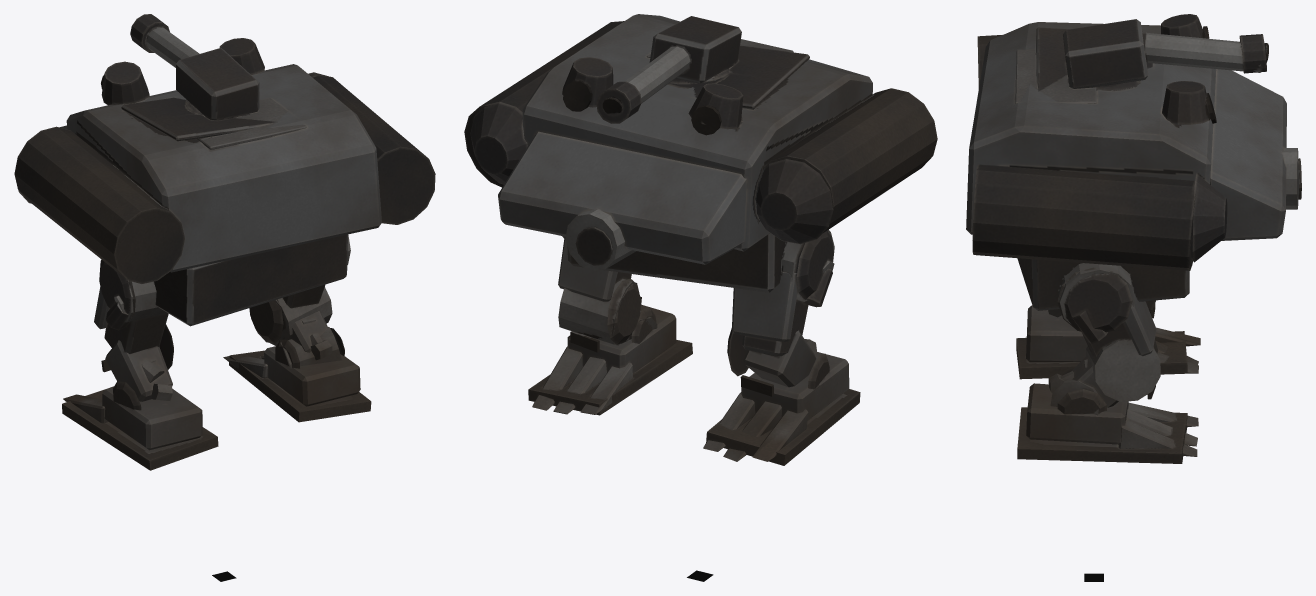
Rendered from chs_newt_wreck.fbx.
3 renders of one model, left to right at view 1: azimuth 30°, elevation 25°; view 2: azimuth 150°, elevation 25°; view 3: azimuth 270°, elevation 25°, orthographic. The views are drawn at different scales.
Parts seen in each view (by area): view 1: torso_bar, base_bar, footL_bar, footR_bar, thighL_bar, shinL_bar, thighR_bar, shinR_bar; view 2: torso_bar, footL_bar, footR_bar, thighL_bar, thighR_bar, base_bar, shinL_bar, shinR_bar; view 3: torso_bar, footR_bar, thighR_bar, footL_bar, base_bar, shinR_bar.
Boxes of the visible parts, x1,y1,x2,y2 form: torso_bar: [14, 14, 435, 283]; base_bar: [154, 234, 347, 326]; footL_bar: [62, 386, 218, 470]; footR_bar: [223, 346, 371, 422]; thighL_bar: [94, 259, 173, 369]; shinL_bar: [101, 340, 172, 410]; thighR_bar: [249, 234, 350, 345]; shinR_bar: [275, 311, 344, 368]; torso_bar: [464, 14, 937, 271]; footL_bar: [703, 352, 860, 465]; footR_bar: [528, 304, 692, 415]; thighL_bar: [727, 229, 834, 376]; thighR_bar: [558, 236, 640, 345]; base_bar: [567, 233, 785, 292]; shinL_bar: [740, 330, 829, 396]; shinR_bar: [570, 296, 657, 352]; torso_bar: [966, 14, 1301, 270]; footR_bar: [1017, 383, 1198, 463]; thighR_bar: [1057, 263, 1160, 401]; footL_bar: [1016, 305, 1200, 379]; base_bar: [1017, 258, 1189, 310]; shinR_bar: [1048, 355, 1155, 415].
Size of the model in its own units: 425 by 612 by 341.
2 materials, 2 textured.
